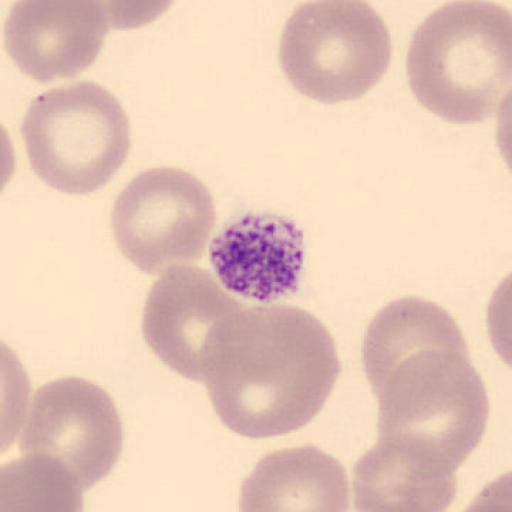Platelet: (206, 208, 310, 305)
RBC: (199, 300, 343, 442), (374, 348, 492, 477), (404, 0, 512, 128), (18, 79, 132, 197), (360, 294, 472, 408), (17, 374, 125, 492), (277, 0, 393, 107), (139, 262, 239, 383), (109, 164, 218, 274), (2, 0, 109, 85), (351, 434, 457, 512), (236, 441, 350, 512), (2, 451, 85, 512), (1, 339, 32, 459), (485, 269, 512, 373), (94, 0, 183, 31), (492, 78, 512, 183), (460, 471, 510, 512), (495, 84, 512, 176), (0, 118, 18, 192)
